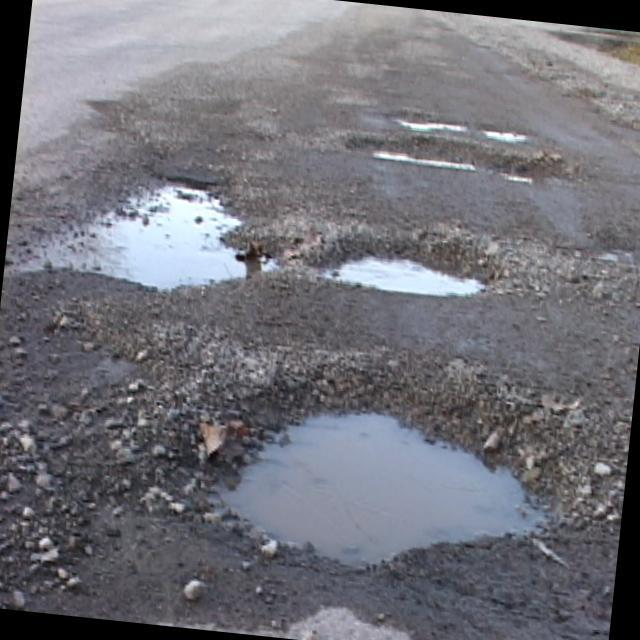Pothole: (178, 358, 564, 599), (43, 155, 291, 291), (320, 225, 500, 312), (352, 130, 566, 197), (392, 108, 476, 141), (481, 122, 534, 144)
